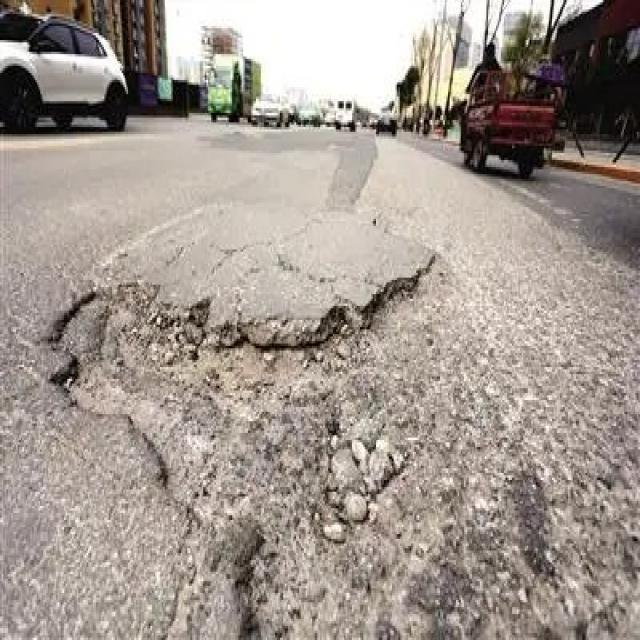Pothole: (34, 248, 467, 640)
